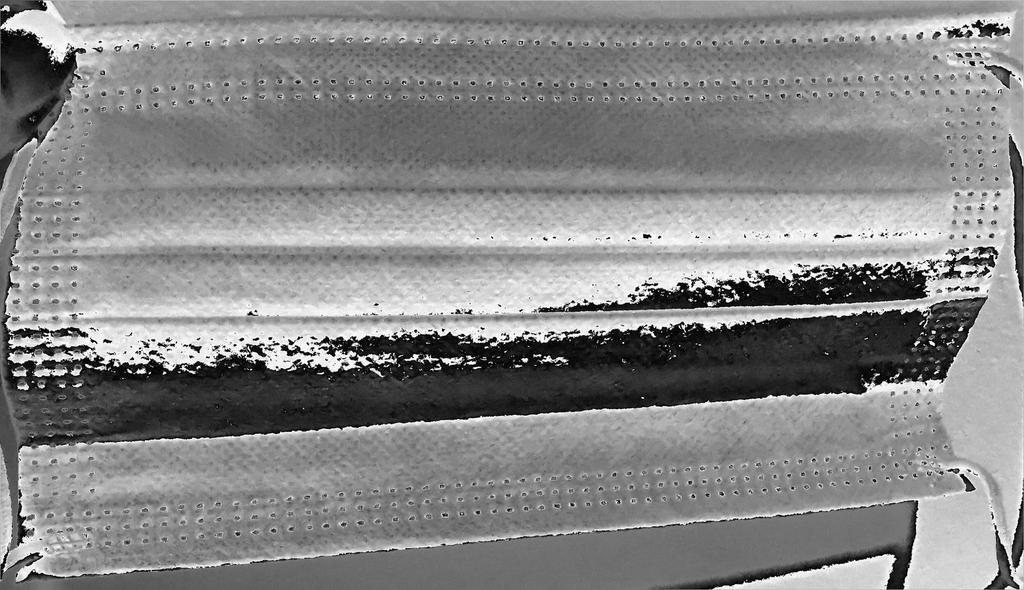High GSM: (84, 91, 947, 450)
